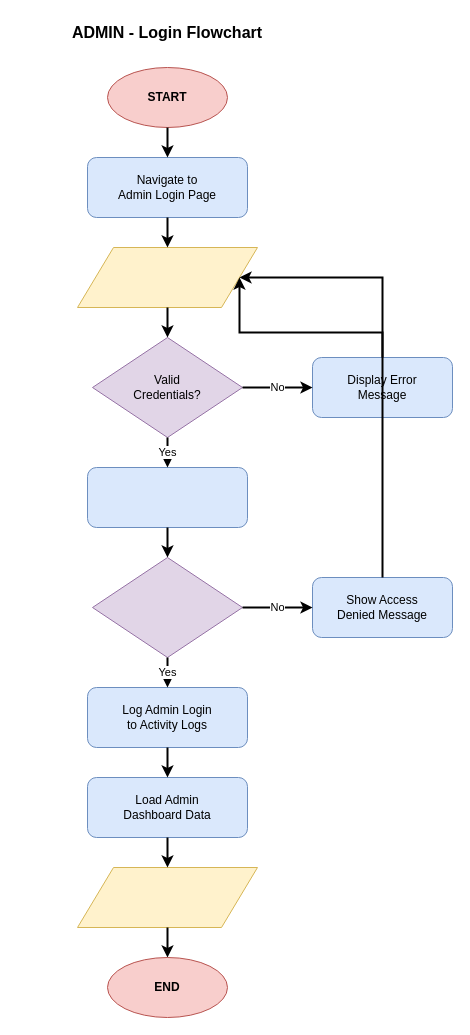
Some shapes in this 470 by 1035 pixel diagram are drawn without their labels. The shapes that lost their labels are listed below. From the top down, each one's box as (x1, y1, x2, y2) in pixels, then its label:
(76, 246, 258, 308): Enter Admin Email & Password
(86, 466, 248, 528): Query Firebase for Admin Record
(92, 556, 242, 658): Admin Role Verified?
(76, 866, 258, 928): Display Dashboard with Statistics
